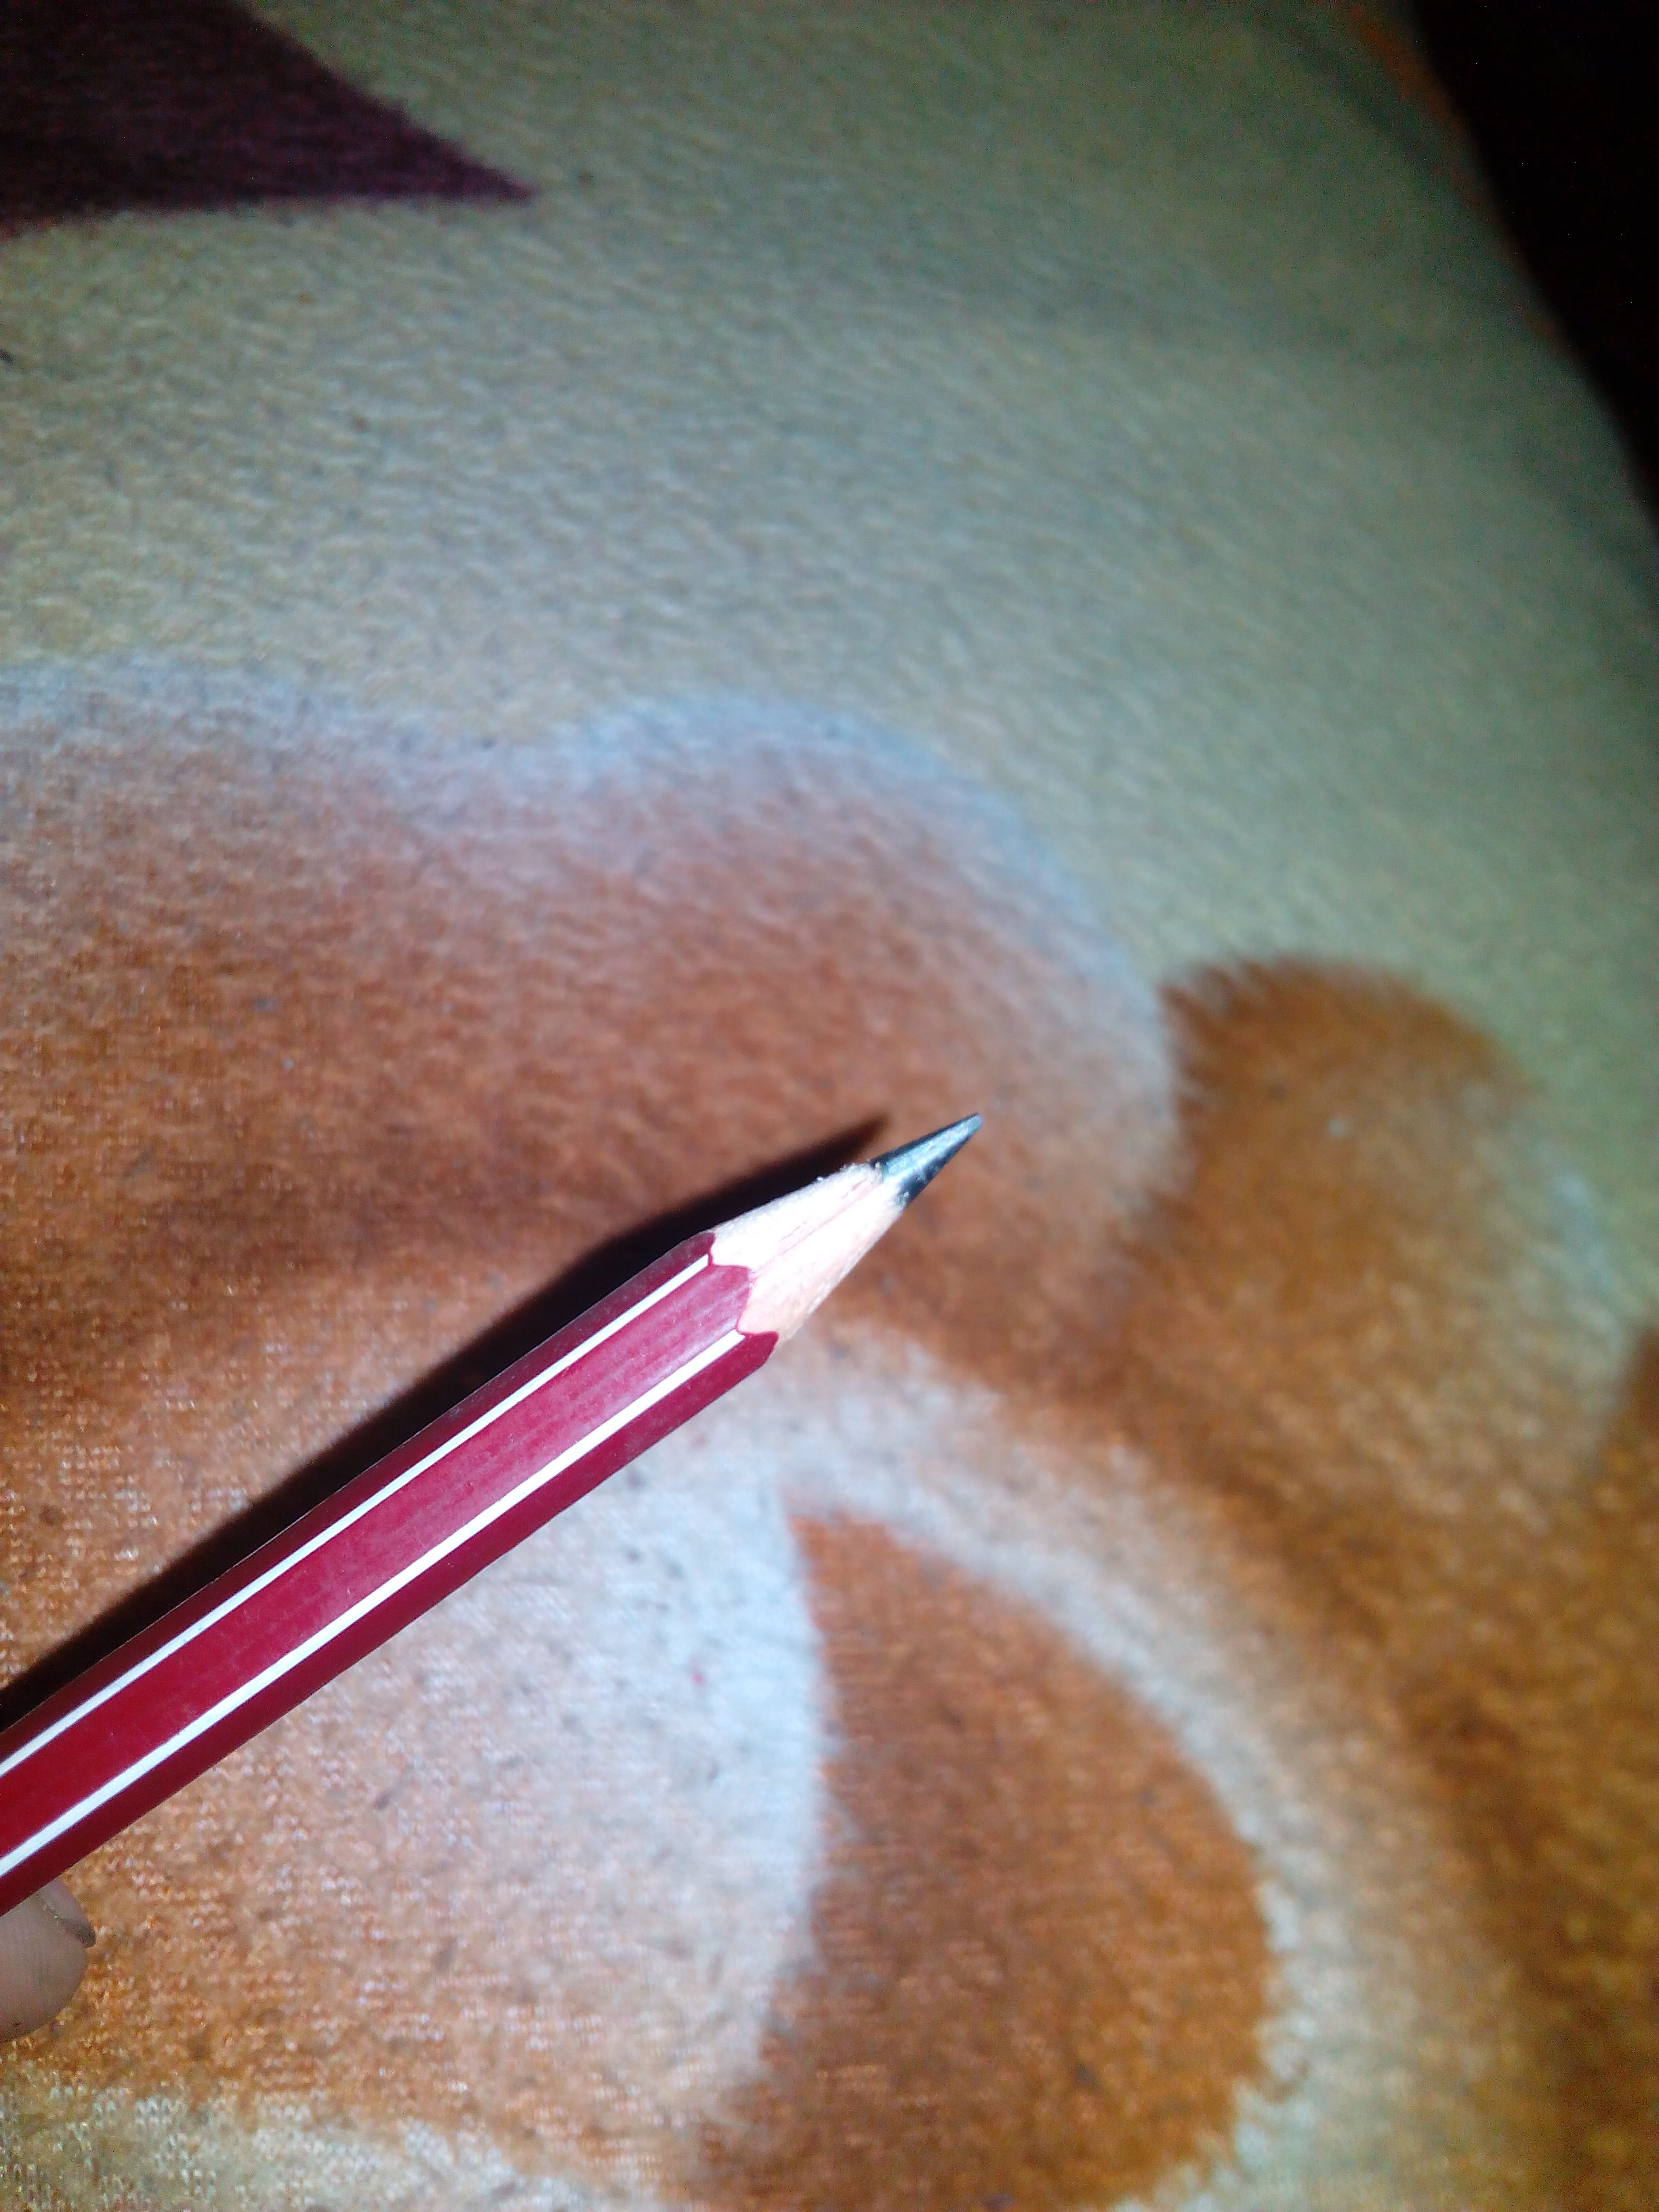pen_tip: (558, 1026, 1094, 1472)
